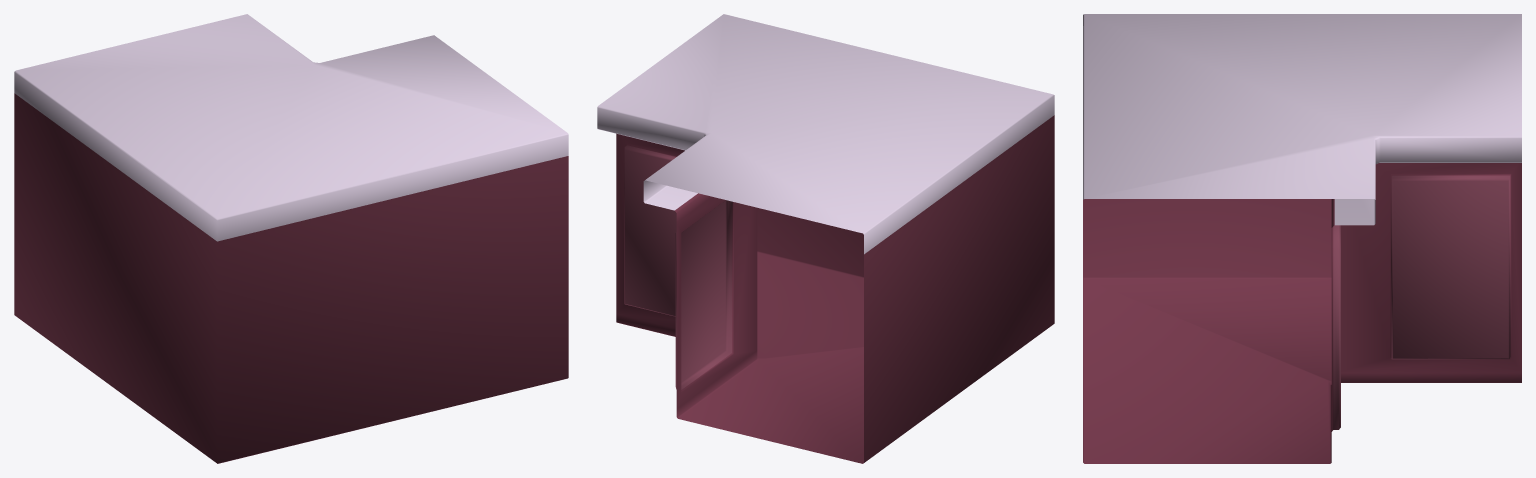
The model's file is CounterCorner.fbx.
3 renders of one model, left to right at view 1: azimuth 30°, elevation 25°; view 2: azimuth 150°, elevation 25°; view 3: azimuth 270°, elevation 25°, orthographic. The views are drawn at different scales.
Visible parts, largest first — view 1: Cube; view 2: Cube; view 3: Cube.
Boxes of the visible parts, bbox=[...] form: Cube: bbox=[14, 14, 568, 463]; Cube: bbox=[597, 14, 1054, 463]; Cube: bbox=[1083, 14, 1521, 463].
Size of the model in its own units: 300 by 200 by 300.
